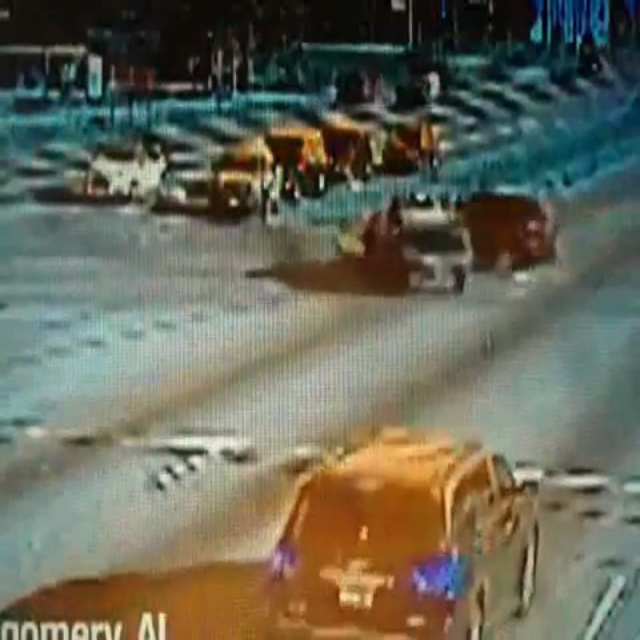acc: (336, 180, 564, 306)
